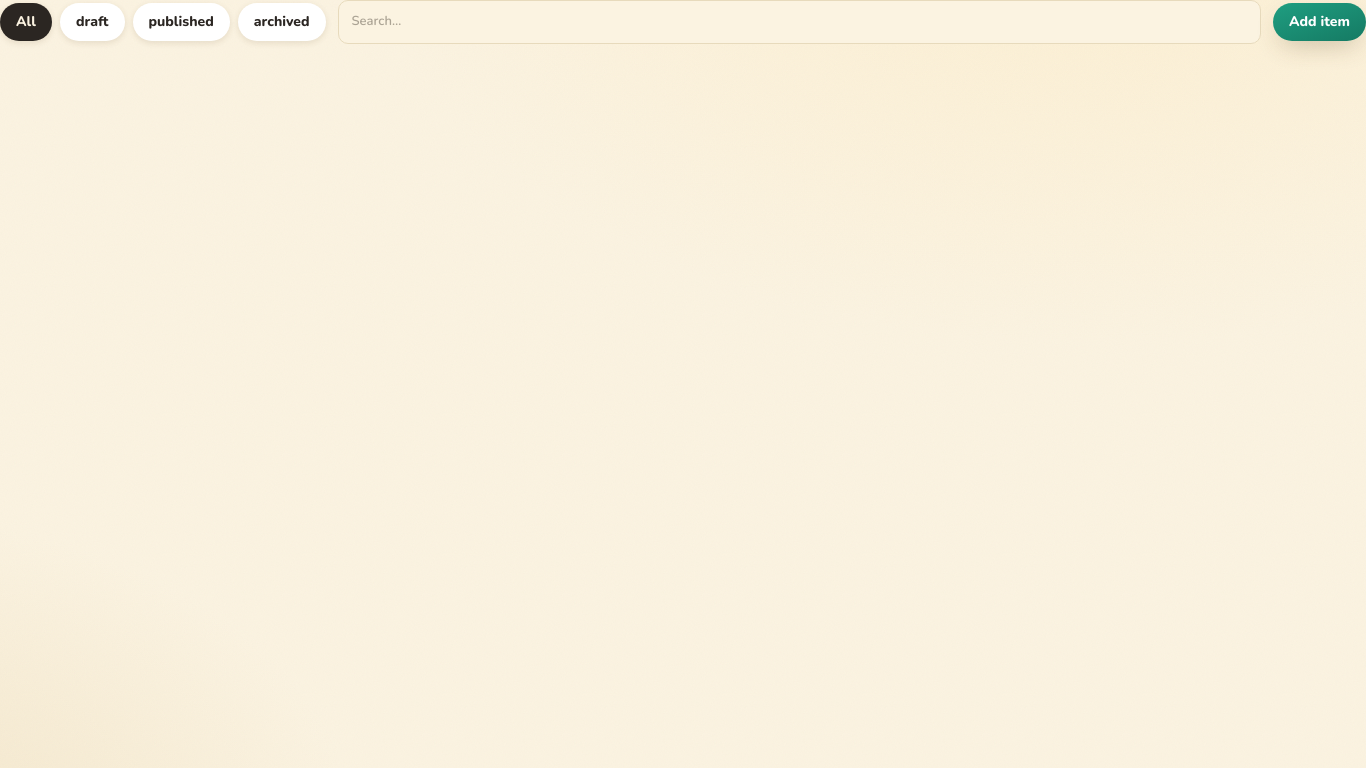
Test case: AdminNewsScreen › validates draft vs publish client-side
Click the button "Add item" at (1320, 22), box [1273, 3, 1365, 41]
(page scrolled)
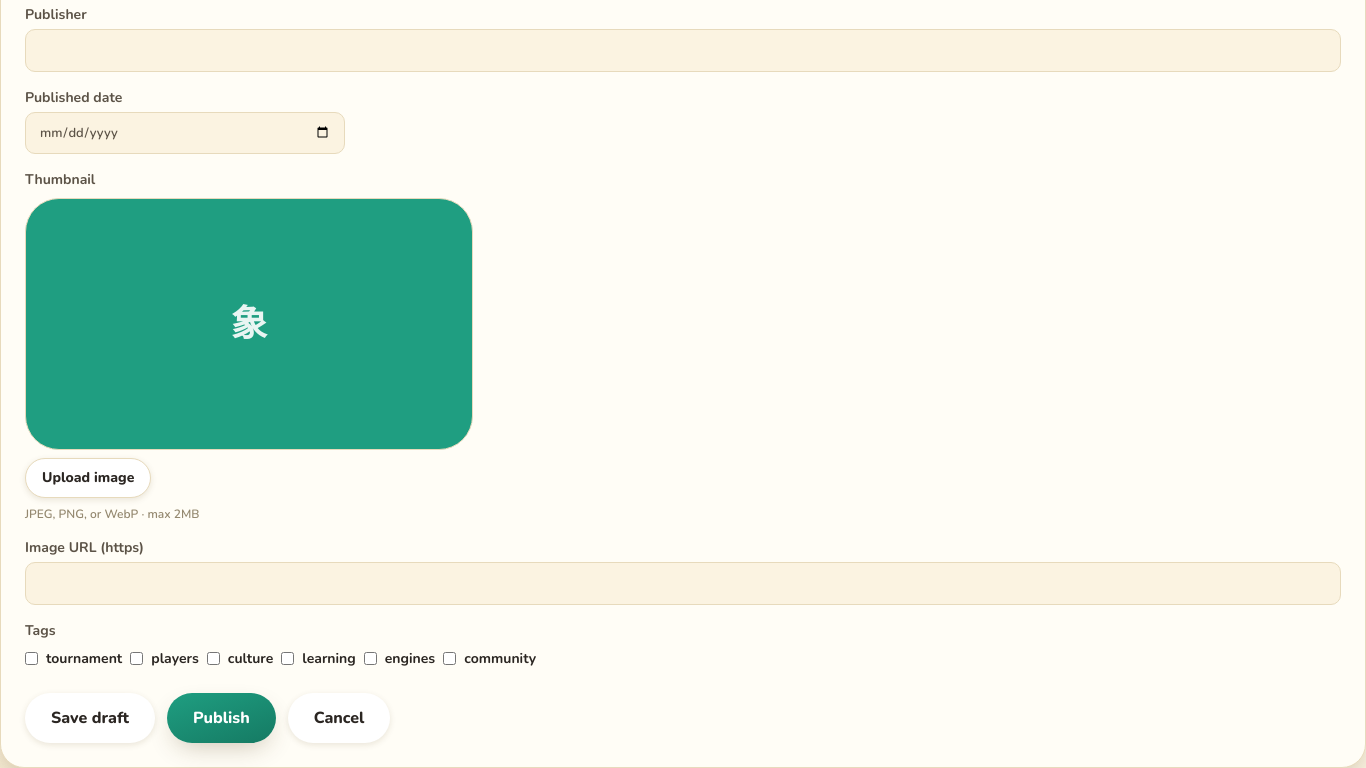
Click the button "Publish" at (221, 718), box [167, 693, 276, 743]
(page scrolled)
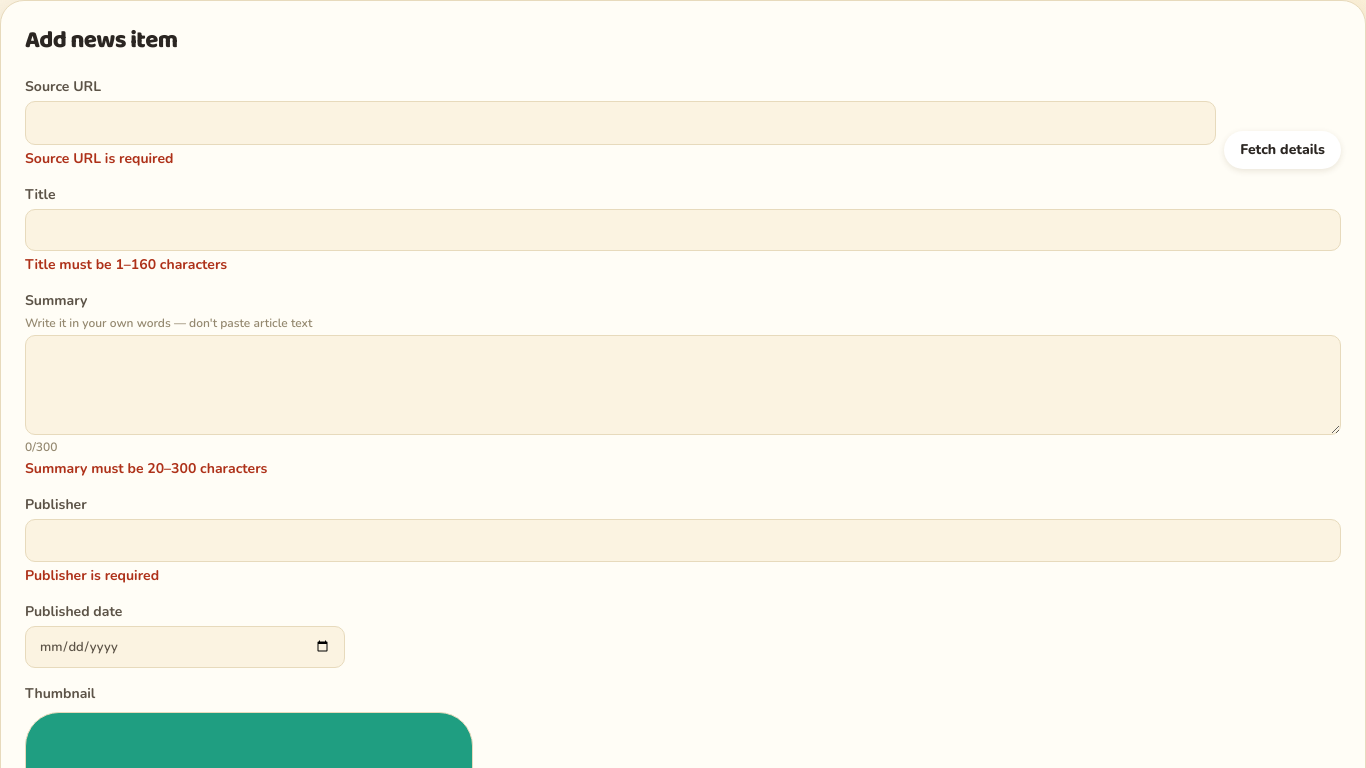
Check: the text "Title must be 1–160 characters" is shown, box [25, 255, 227, 274]
Type "https://example.com/only-url" into the field labelled "Source URL" at (621, 123), box [25, 101, 1216, 144]
(page scrolled)
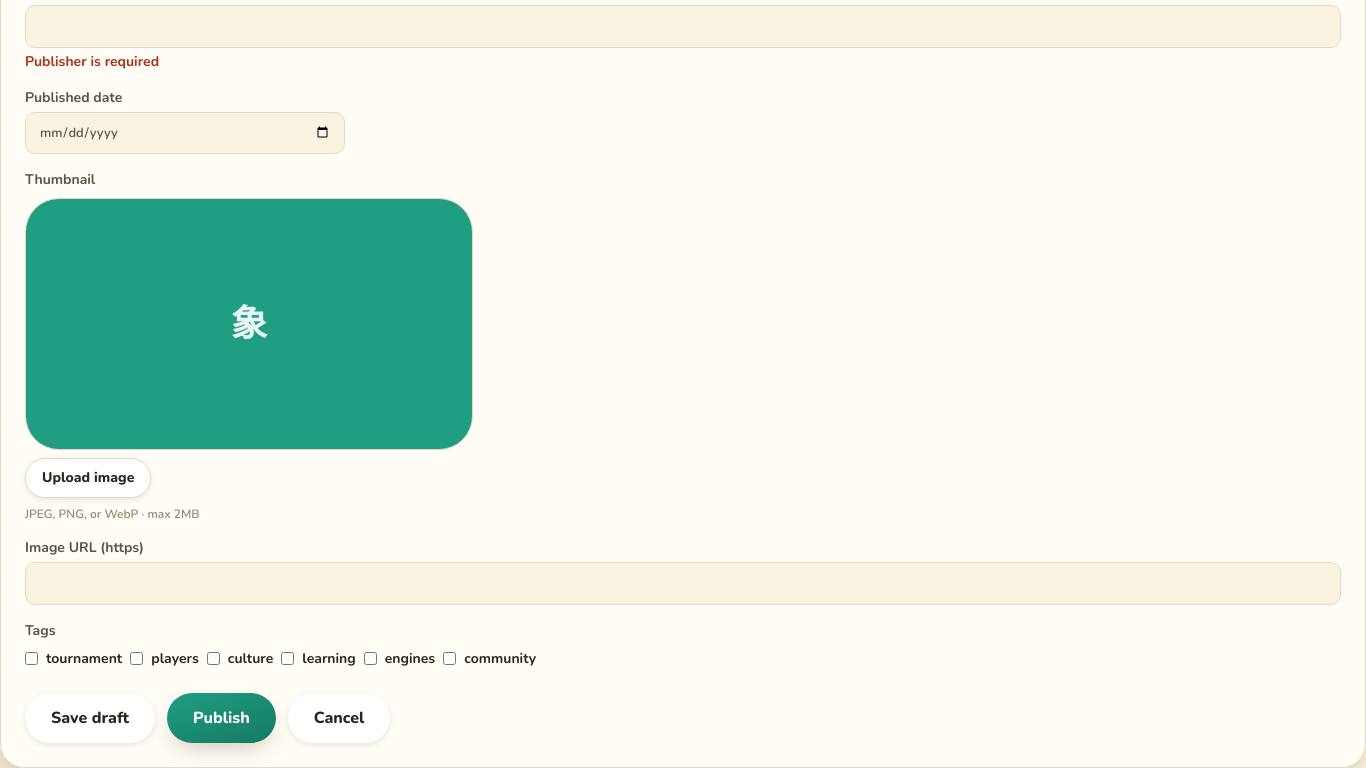
Click the button "Save draft" at (90, 718), box [25, 693, 155, 743]
(page scrolled)
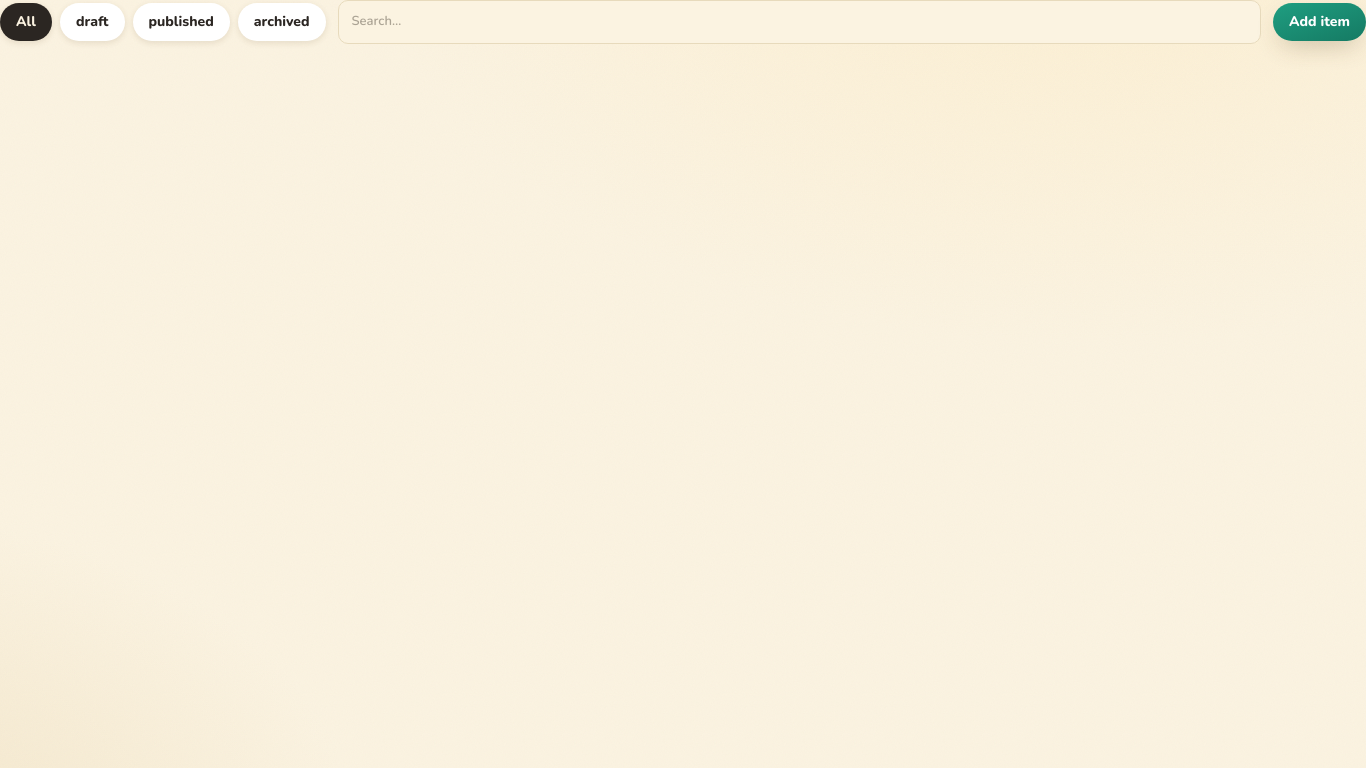
Check: the button "Add item" is shown, box [1273, 3, 1365, 41]
